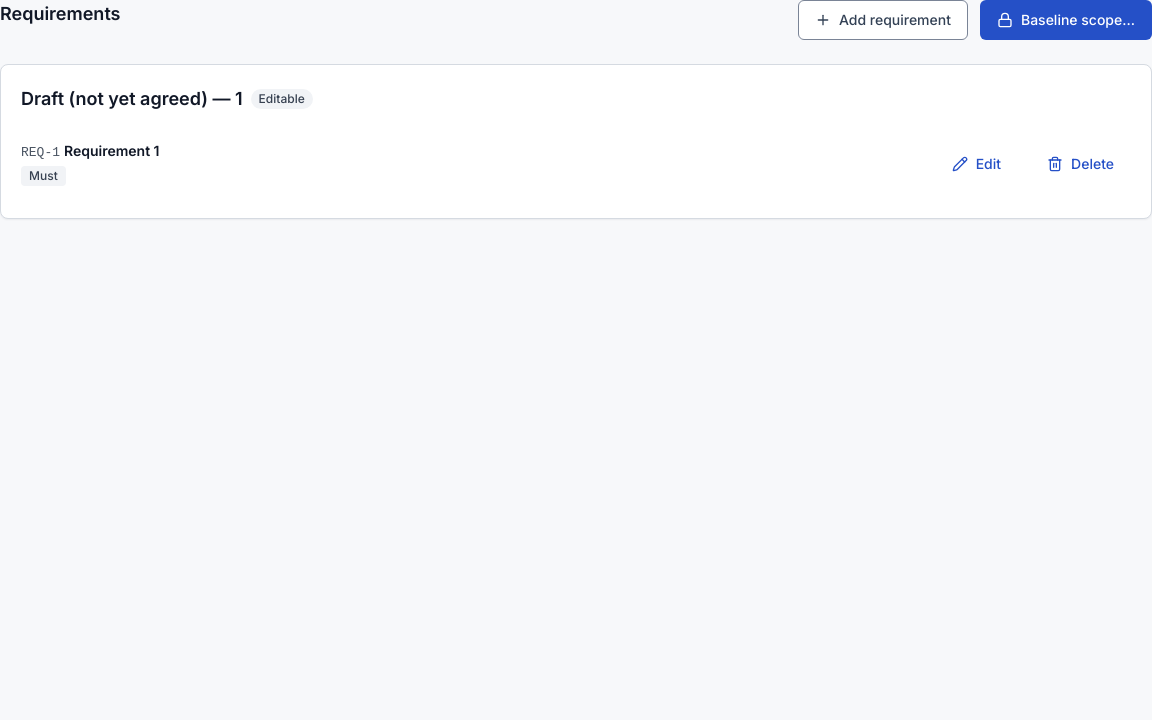
it: S-05 RequirementsBoard (FR-012, FR-013) › CT-REQ-05 cancelling the baseline dialog changes nothing
The image size is (1152, 720).
Click the button "Baseline scope…" at (1066, 20), box [980, 0, 1151, 40]
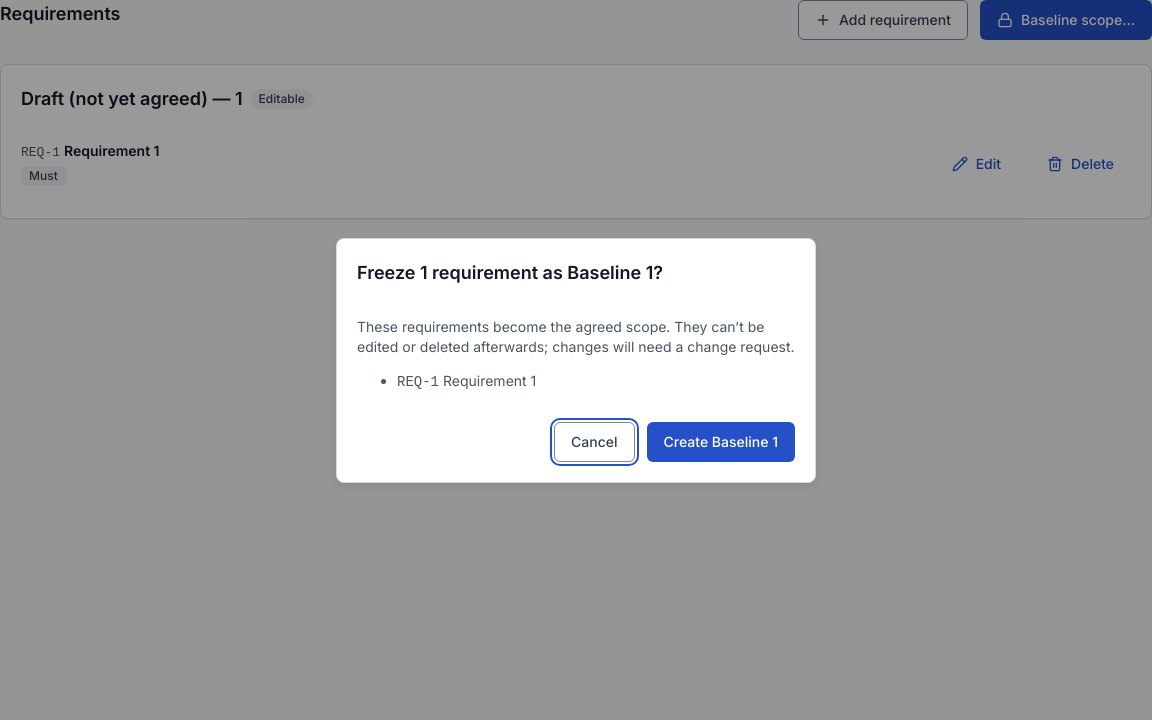
Click the button "Cancel" at (594, 442), box [554, 422, 634, 462]
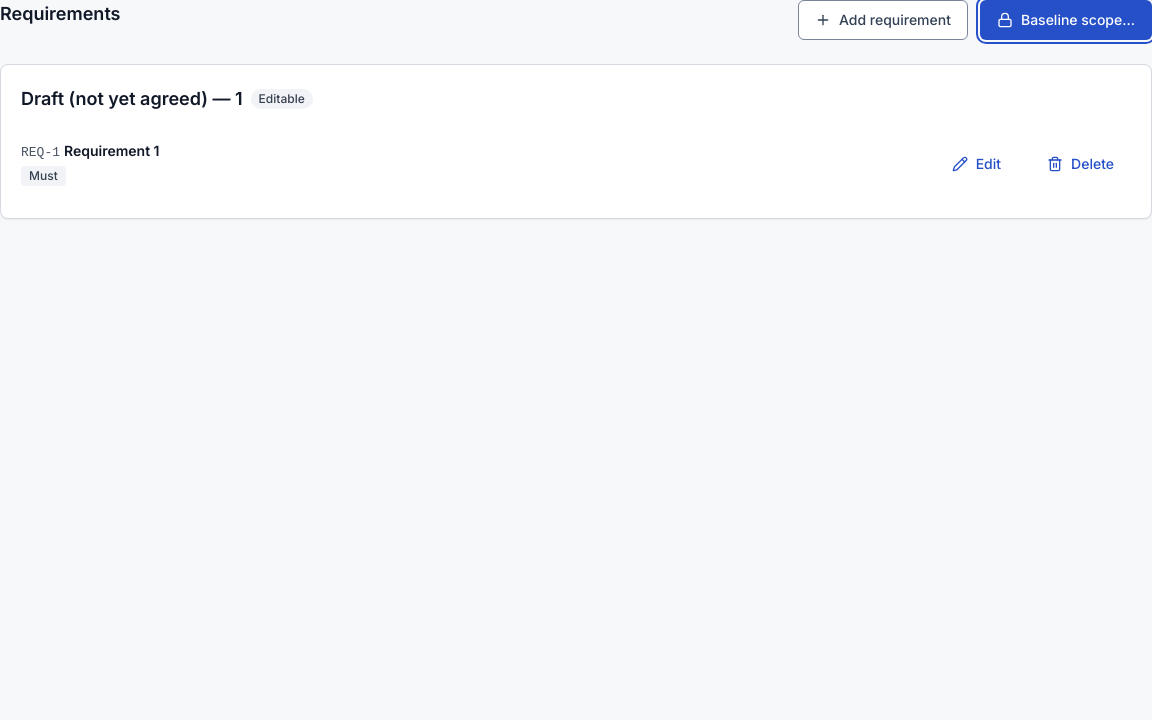
Now the dialog is gone
